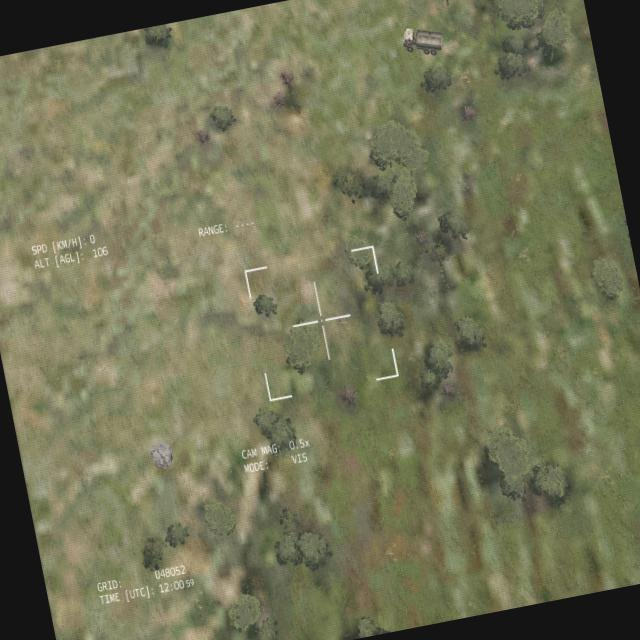truck: (400, 20, 446, 61)
